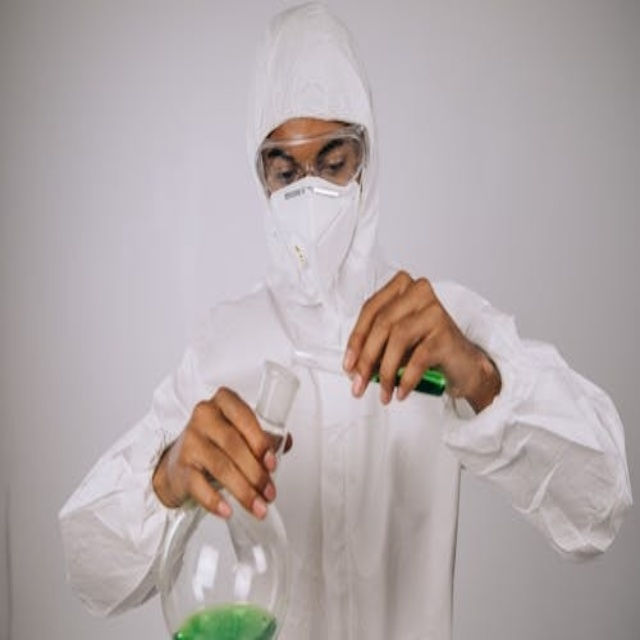Gafas: (257, 128, 368, 198)
Mascara: (266, 157, 365, 304)
Sin_guantes: (342, 269, 491, 413), (162, 384, 289, 522)
